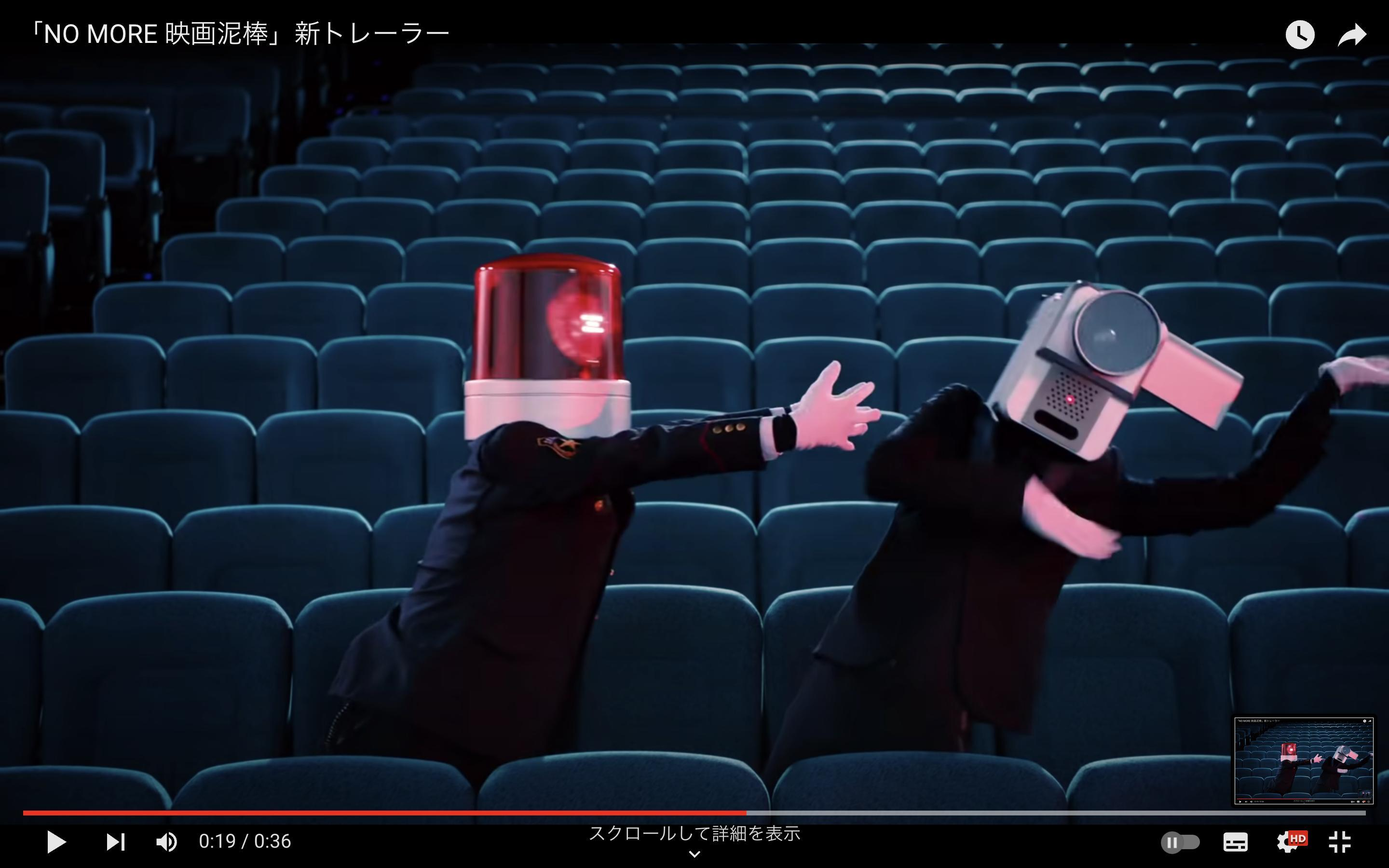no more kid: (987, 282, 1241, 463)
